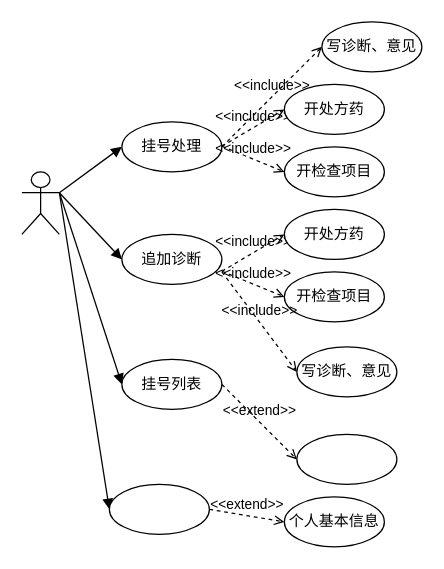
Some shapes in this 444 by 569 pixel diagram are drawn without their labels. The shapes that lost their labels are listed below. From the top down, each one's centre as x and y in pixels, then its label:
At (40,202): "医生".
At (346,458): "表单展示".
At (158,508): "个人中心".
